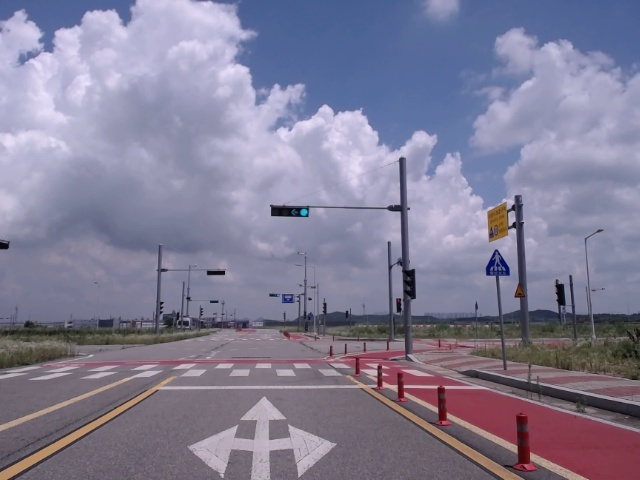all_green_4: (270, 205, 307, 217)
